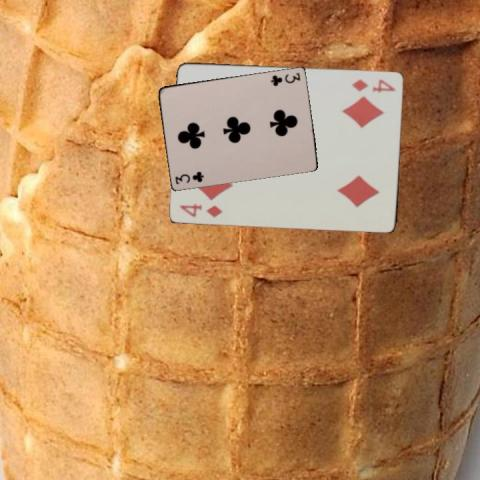3c: (268, 70, 302, 88), (172, 170, 205, 186)
4d: (348, 76, 396, 93), (177, 201, 225, 218)
